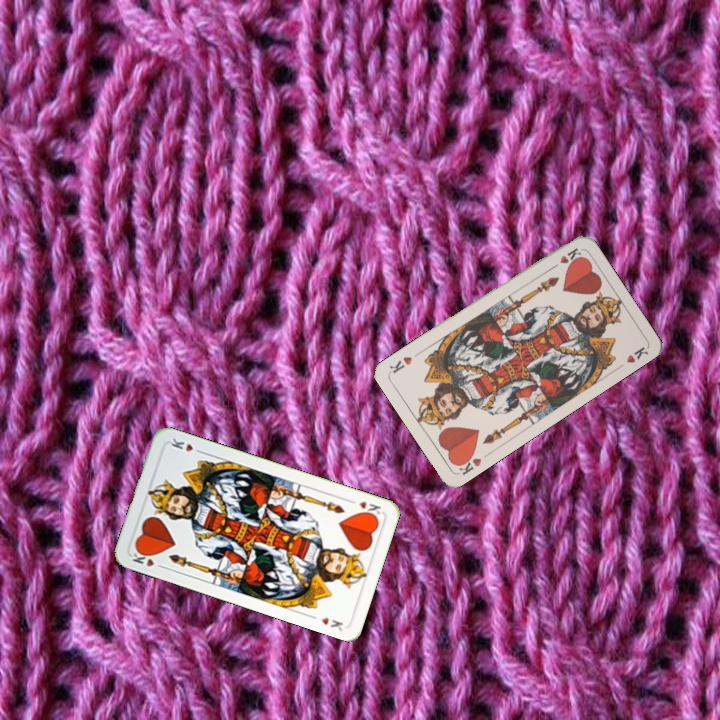HK: (546, 243, 583, 273), (128, 546, 167, 571), (345, 495, 383, 520), (452, 449, 484, 478)
